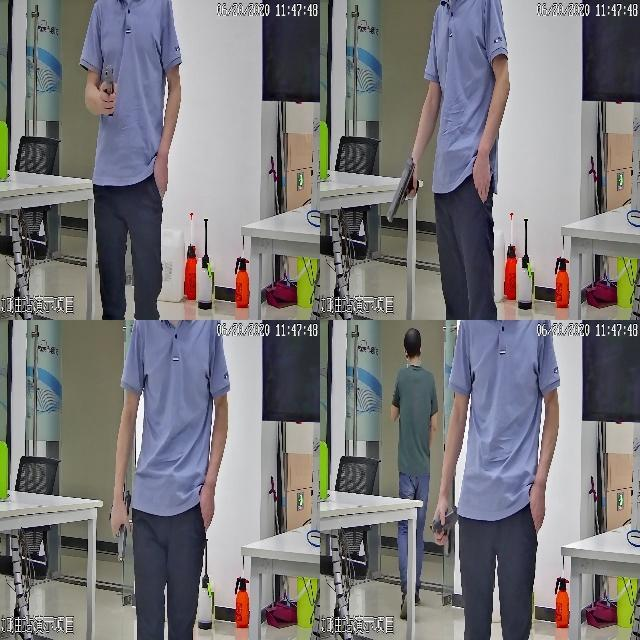gun-knife-thesis - v11 Yolov5 augmented: (379, 156, 419, 225), (107, 485, 131, 562), (429, 503, 458, 558), (101, 61, 116, 118)
